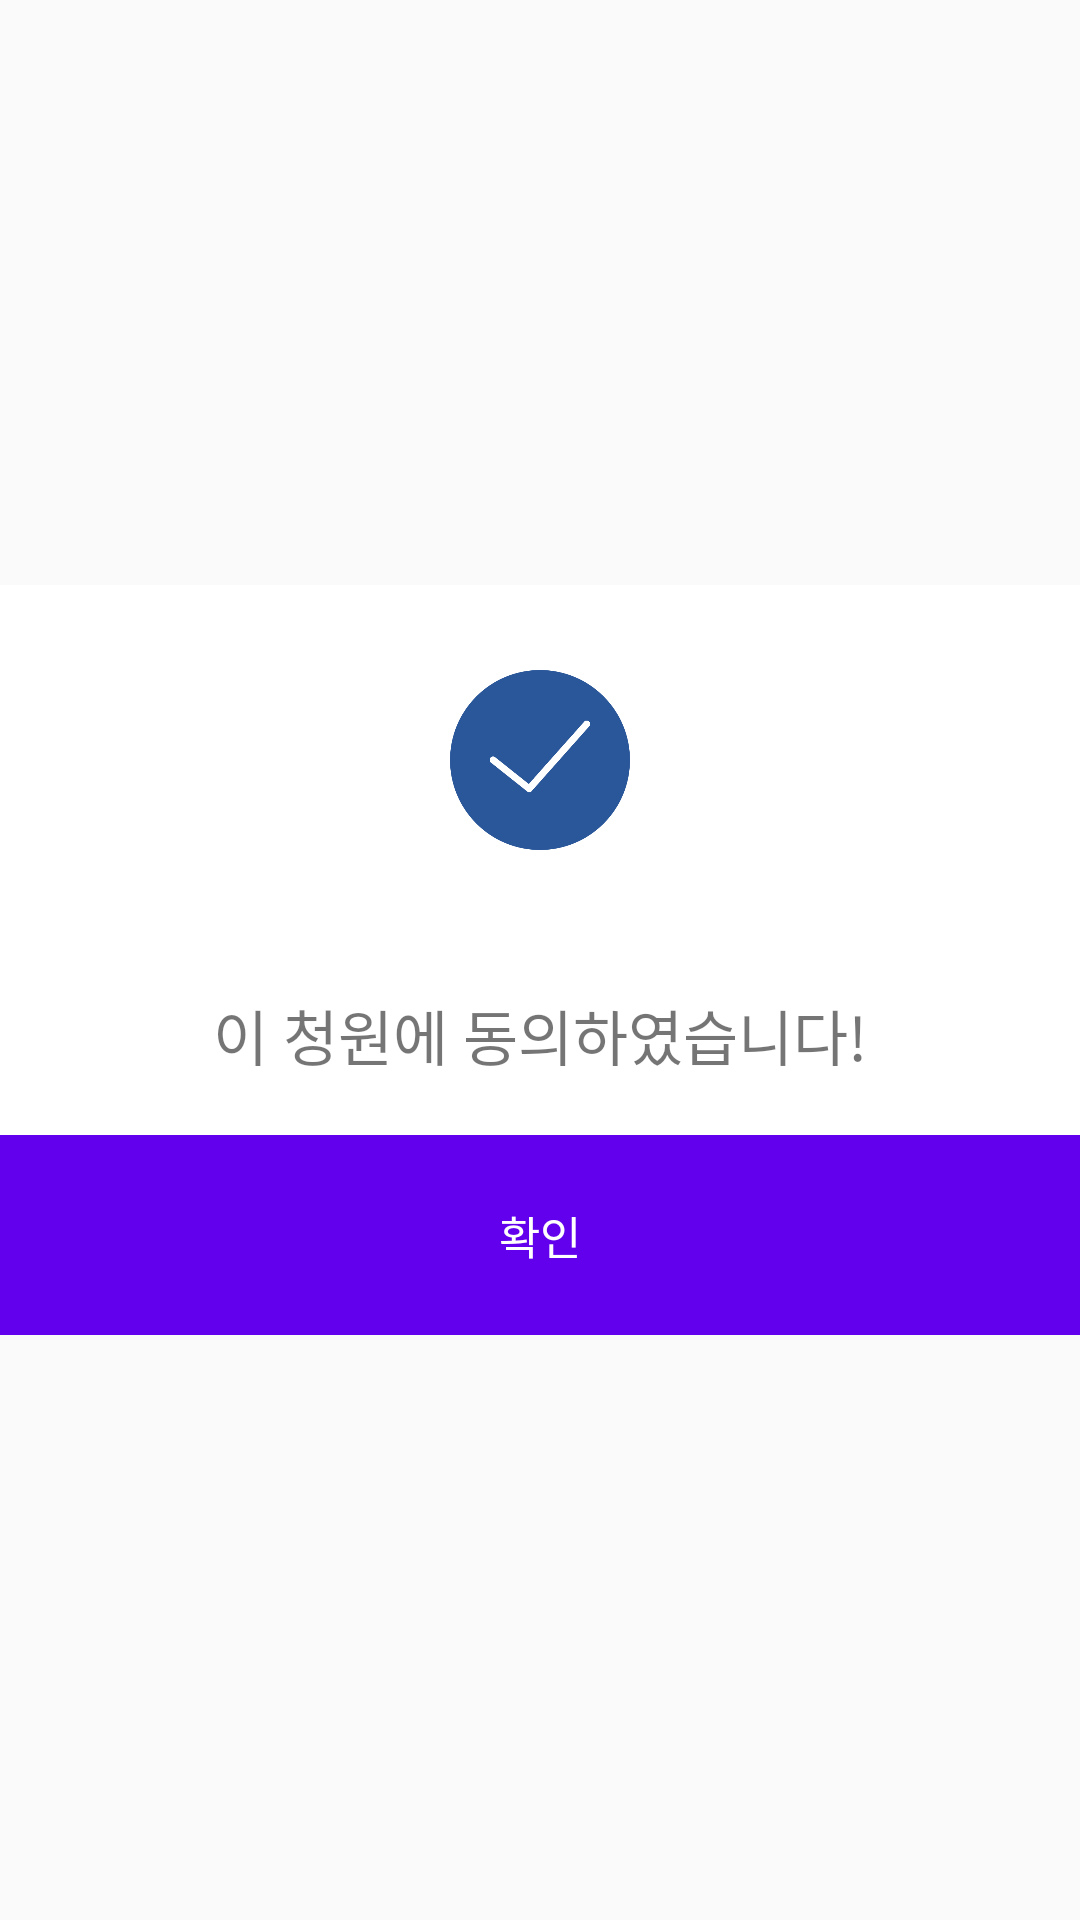

Where icons sit on this 1080 x 1920 app screen, as (x1, y1, x2, y2):
success: (450, 670, 630, 850)
